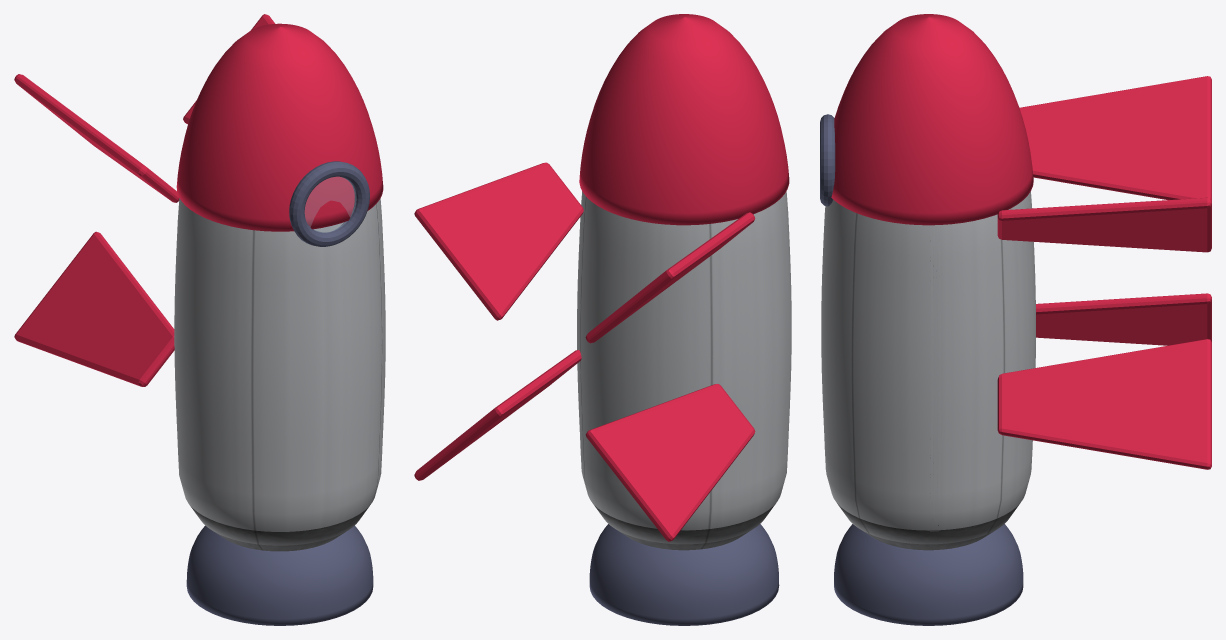
File: rocket.glb
3 views of the same model, side by side, from view 1: azimuth 30°, elevation 25°; view 2: azimuth 150°, elevation 25°; view 3: azimuth 270°, elevation 25° (orthographic).
Visible parts, largest first — view 1: rocket_hull, rocket_nose, rocket_nozzle, fin_03, porthole_ring, fin_02, porthole_glass; view 2: rocket_hull, rocket_nose, rocket_nozzle, fin_01, fin_03, fin_02, fin_04; view 3: rocket_hull, rocket_nose, fin_04, fin_02, rocket_nozzle, fin_01, fin_03, porthole_ring.
Part boxes in pixels (x1,y1,x2,y2): rocket_hull: (174, 198, 385, 551); rocket_nose: (176, 23, 383, 231); rocket_nozzle: (186, 525, 373, 625); fin_03: (14, 231, 174, 386); porthole_ring: (289, 161, 369, 246); fin_02: (14, 74, 179, 202); porthole_glass: (305, 177, 356, 232); rocket_hull: (577, 191, 791, 550); rocket_nose: (579, 14, 789, 225); rocket_nozzle: (589, 524, 779, 625); fin_01: (414, 162, 583, 320); fin_03: (585, 384, 755, 541); fin_02: (585, 212, 755, 343); fin_04: (414, 350, 581, 480); rocket_hull: (821, 191, 1035, 550); rocket_nose: (831, 14, 1033, 225); fin_04: (997, 339, 1211, 469); fin_02: (1019, 76, 1211, 200); rocket_nozzle: (834, 524, 1023, 625); fin_01: (997, 197, 1211, 252); fin_03: (1036, 293, 1211, 345); porthole_ring: (820, 114, 835, 206).
Bounding box in the file's own units: 1.33 × 2.78 × 1.74.
4 materials, 1 textured.
